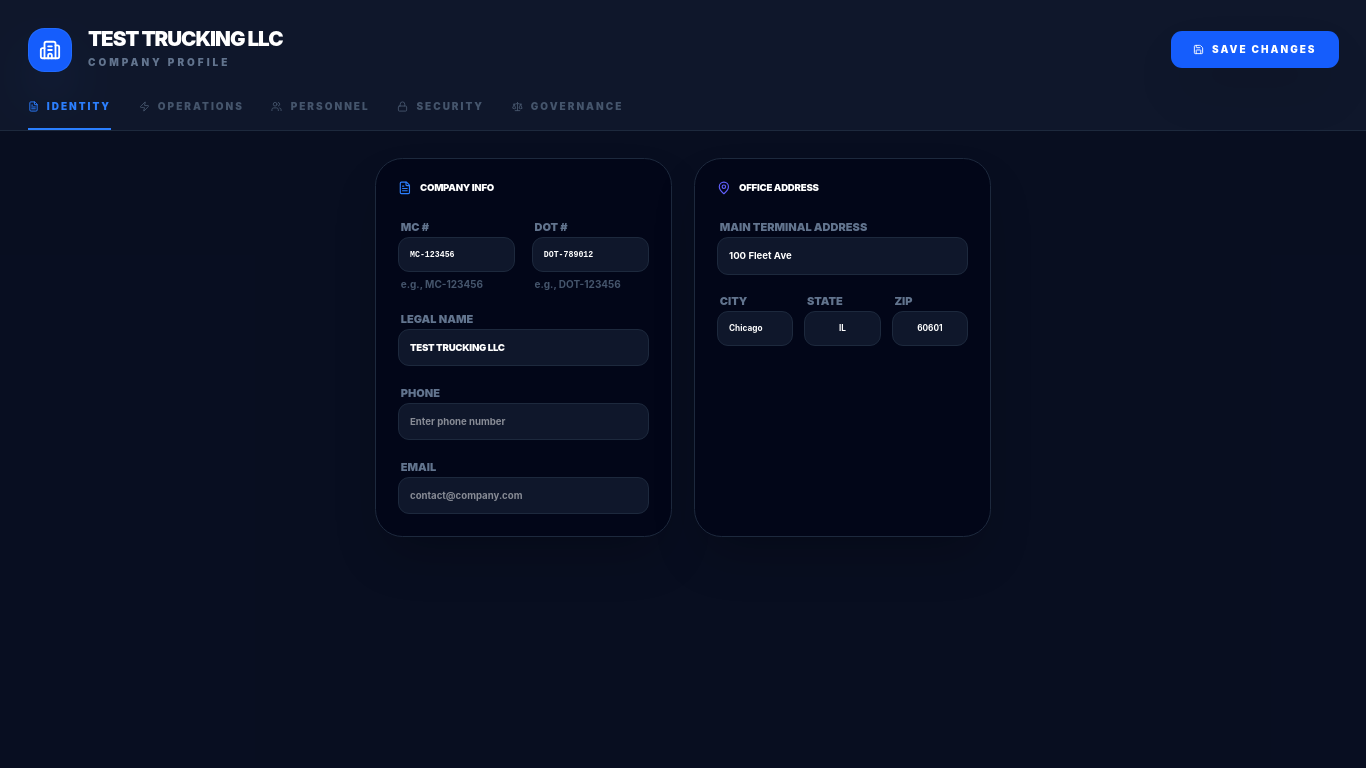
Test: CompanyProfile component › Admin view: Header and navigation › shows success message after saving
Click the button "Save Changes" at (1255, 50), box x1=1171 y1=31 x2=1338 y2=68
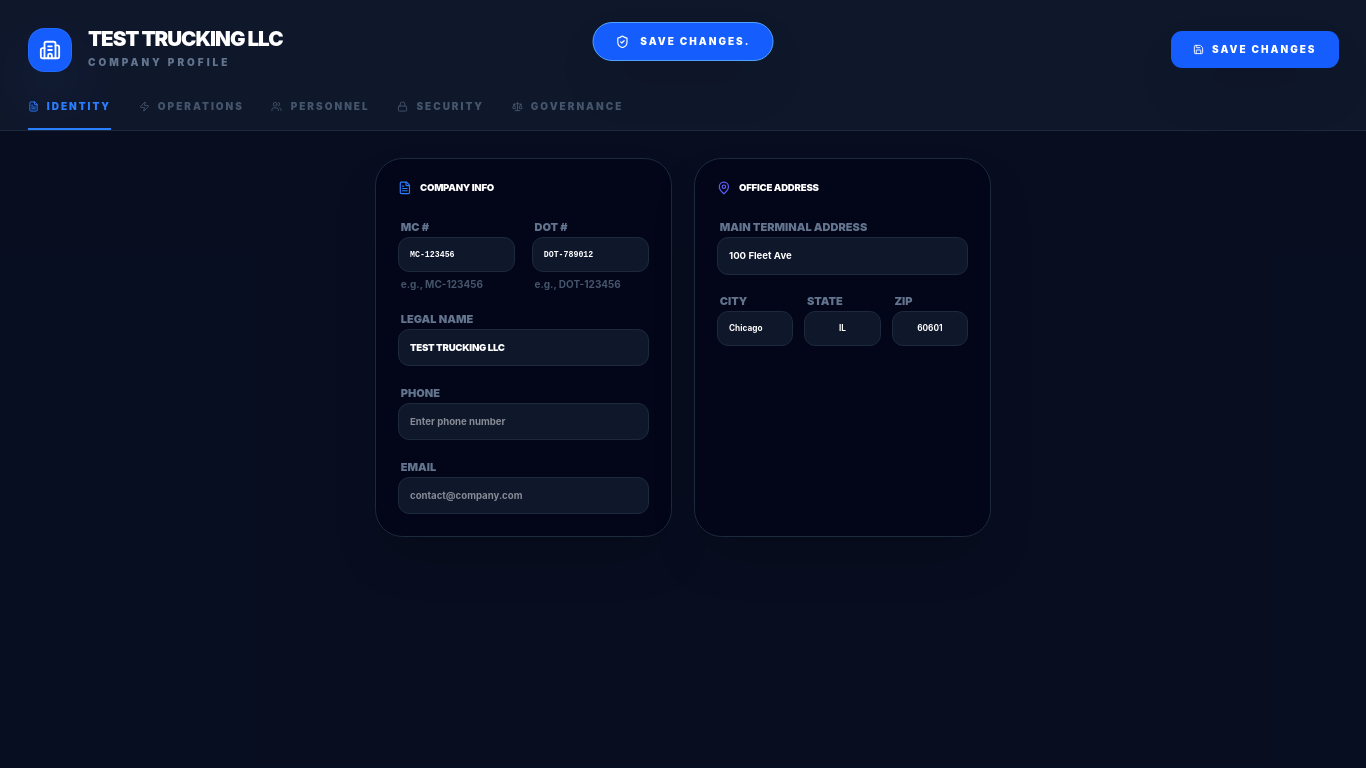
Check: the text "Save Changes." is shown, box x1=592 y1=22 x2=774 y2=61
